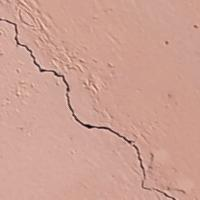crack: (1, 11, 172, 199)
